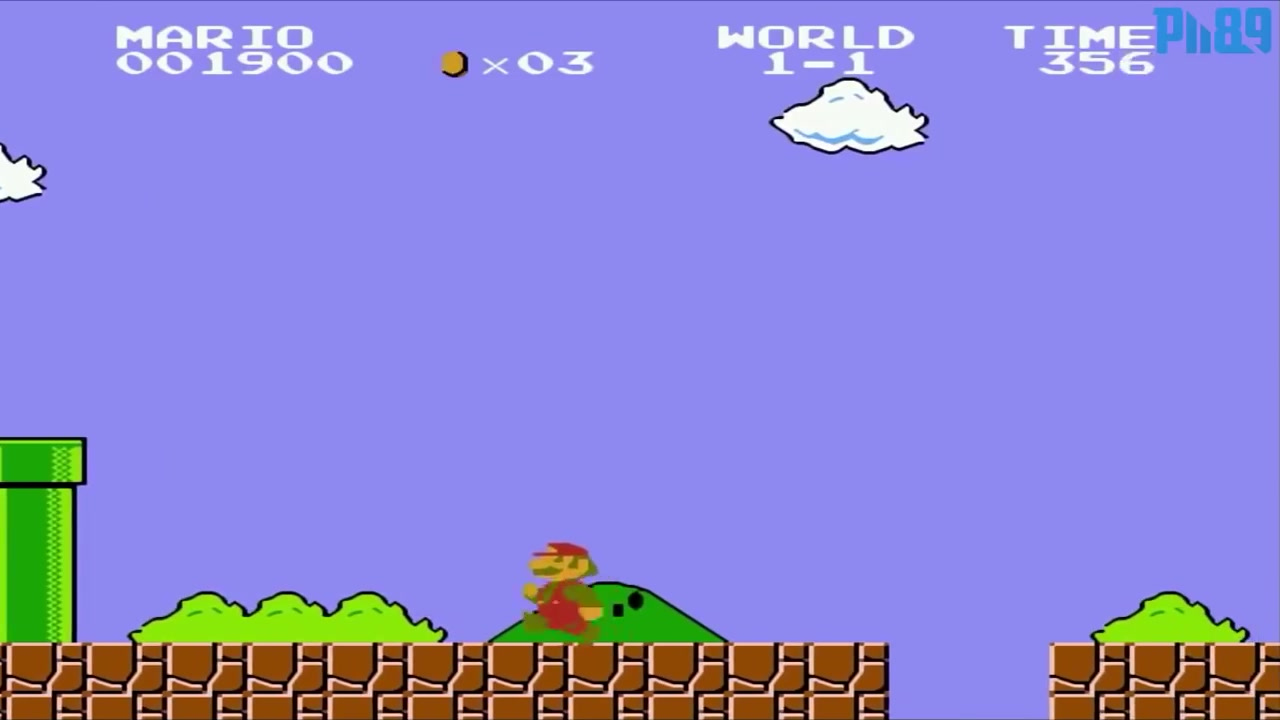mario: (513, 532, 612, 642)
